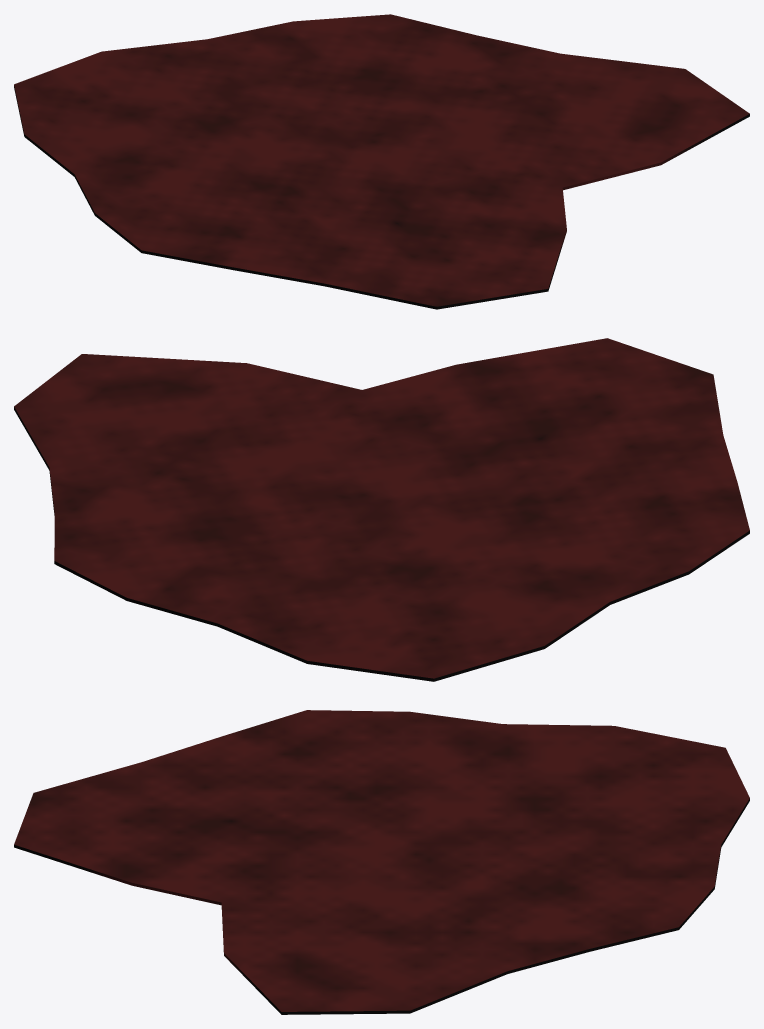
File: Blood_Pool_01.obj
3 renders of one model, top to bottom at view 1: azimuth 30°, elevation 25°; view 2: azimuth 150°, elevation 25°; view 3: azimuth 270°, elevation 25°, orthographic. The views are drawn at different scales.
Parts seen in each view (by area): view 1: Blood_Pool_01; view 2: Blood_Pool_01; view 3: Blood_Pool_01.
Part boxes in pixels (box(x1,y1,x2,y2)): Blood_Pool_01: box(14, 14, 749, 309); Blood_Pool_01: box(14, 338, 749, 681); Blood_Pool_01: box(14, 710, 749, 1014).
Bounding box in the file's own units: 0.8928 × 0.004 × 0.9198.
1 material, 1 textured.
